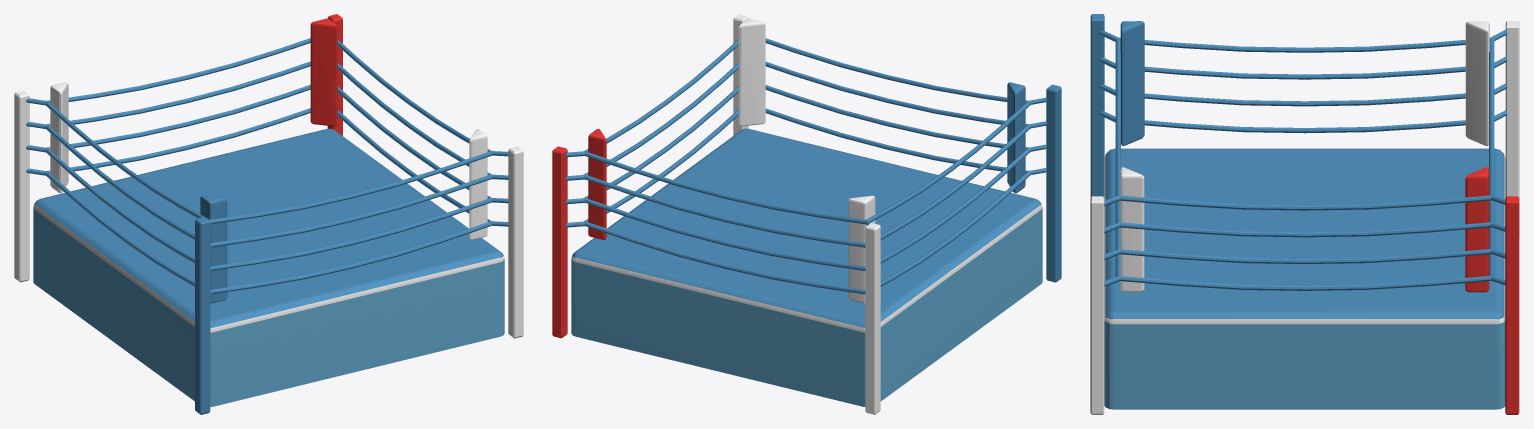
File: Boxing_Ring.fbx
The picture shows the model from 3 angles, left to right: view 1: azimuth 30°, elevation 25°; view 2: azimuth 150°, elevation 25°; view 3: azimuth 270°, elevation 25°; orthographic projection. The views are drawn at different scales.
Visible parts, largest first — view 1: Boxing_Ring; view 2: Boxing_Ring; view 3: Boxing_Ring.
Boxes of the visible parts, x1,y1,x2,y2 form: Boxing_Ring: (14,14,523,414); Boxing_Ring: (552,14,1061,414); Boxing_Ring: (1090,14,1519,414).
Bounding box in the file's own units: 14.76 × 8.62 × 14.76.
1 material, 1 textured.
